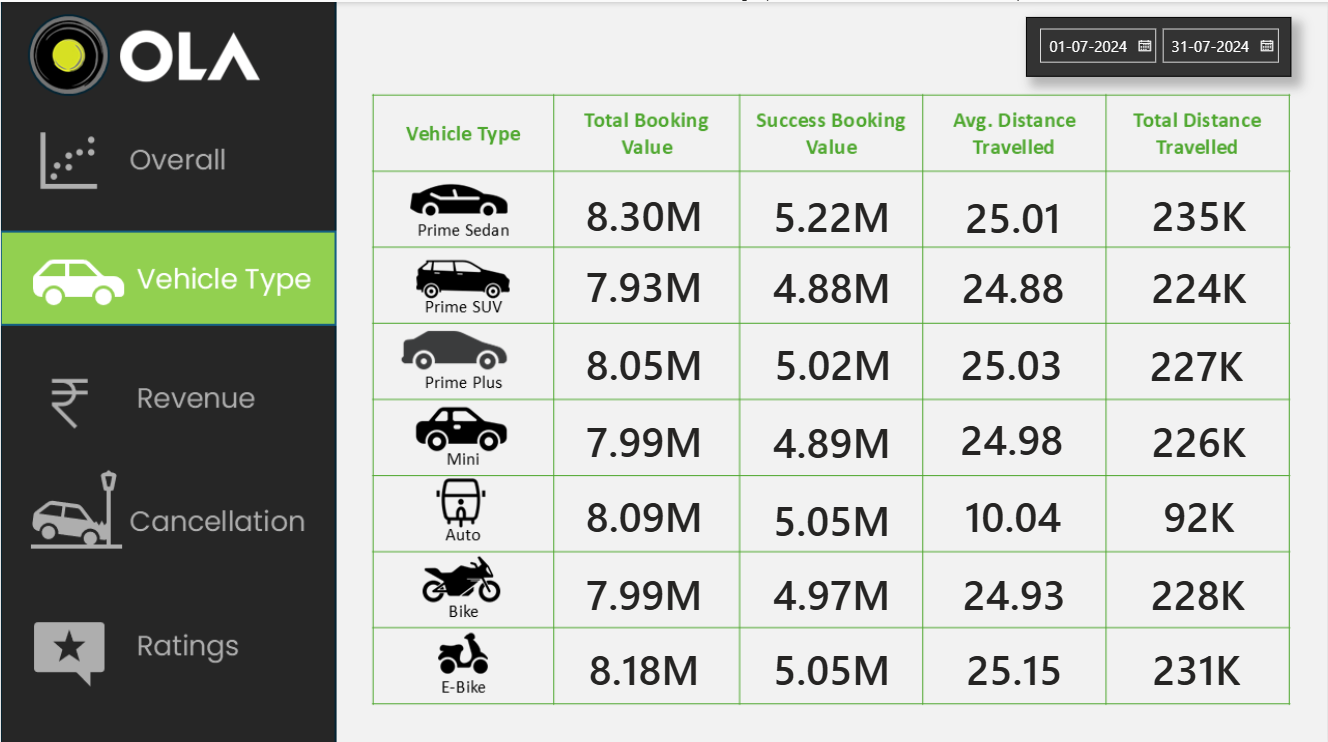

Layout of this report page (visuals, bound fields, positions):
{"tool":"powerbi","page":{"name":"Vehicle Type","canvas":[1280,720],"ordinal":1},"visuals":[{"type":"actionButton","box":[0,340,324.4,92.2],"z":0},{"type":"actionButton","box":[0,107.5,325,92.5],"z":1000},{"type":"actionButton","box":[0,445,325,92.5],"z":2000},{"type":"actionButton","box":[0,580,325,92.5],"z":3000},{"type":"cardVisual","fields":{"Data":["Sum(July.Booking_Value)"]},"box":[535,163.8,173.8,78.8],"z":4000},{"type":"cardVisual","fields":{"Data":["Sum(July.Booking_Value)"]},"box":[535,232.5,173.8,78.8],"z":5000},{"type":"cardVisual","fields":{"Data":["Sum(July.Booking_Value)"]},"box":[535,307.5,173.8,78.8],"z":6000},{"type":"cardVisual","fields":{"Data":["Sum(July.Booking_Value)"]},"box":[535,382.5,173.8,78.8],"z":7000},{"type":"cardVisual","fields":{"Data":["Sum(July.Booking_Value)"]},"box":[535,455,173.8,78.8],"z":8000},{"type":"cardVisual","fields":{"Data":["Sum(July.Booking_Value)"]},"box":[535,530,173.8,78.8],"z":9000},{"type":"cardVisual","fields":{"Data":["Sum(July.Booking_Value)"]},"box":[535,602.5,173.8,78.8],"z":10000},{"type":"cardVisual","fields":{"Data":["Sum(July.Booking_Value)"]},"box":[715,165,173.8,78.8],"z":11000},{"type":"cardVisual","fields":{"Data":["Sum(July.Booking_Value)"]},"box":[715,233.8,173.8,78.8],"z":12000},{"type":"cardVisual","fields":{"Data":["Sum(July.Booking_Value)"]},"box":[716.2,307.5,173.8,78.8],"z":13000},{"type":"cardVisual","fields":{"Data":["Sum(July.Booking_Value)"]},"box":[715,383.8,173.8,78.8],"z":14000},{"type":"cardVisual","fields":{"Data":["Sum(July.Booking_Value)"]},"box":[715,458.8,173.8,78.8],"z":15000},{"type":"cardVisual","fields":{"Data":["Sum(July.Booking_Value)"]},"box":[715,530,173.8,78.8],"z":16000},{"type":"cardVisual","fields":{"Data":["Sum(July.Booking_Value)"]},"box":[715,602.5,173.8,78.8],"z":17000},{"type":"cardVisual","fields":{"Data":["Avg(July.Ride_Distance)"]},"box":[890,166.2,173.8,78.8],"z":18000},{"type":"cardVisual","fields":{"Data":["Avg(July.Ride_Distance)"]},"box":[890,233.8,173.8,78.8],"z":19000},{"type":"cardVisual","fields":{"Data":["Avg(July.Ride_Distance)"]},"box":[888.8,307.5,173.8,78.8],"z":20000},{"type":"cardVisual","fields":{"Data":["Avg(July.Ride_Distance)"]},"box":[888.8,380,173.8,78.8],"z":21000},{"type":"cardVisual","fields":{"Data":["Avg(July.Ride_Distance)"]},"box":[890,455,173.8,78.8],"z":22000},{"type":"cardVisual","fields":{"Data":["Avg(July.Ride_Distance)"]},"box":[891.2,530,173.8,78.8],"z":23000},{"type":"cardVisual","fields":{"Data":["Avg(July.Ride_Distance)"]},"box":[891.2,602.5,173.8,78.8],"z":24000},{"type":"cardVisual","fields":{"Data":["Sum(July.Ride_Distance)"]},"box":[1065,163.8,182.5,78.8],"z":25000},{"type":"cardVisual","fields":{"Data":["Sum(July.Ride_Distance)"]},"box":[1065,233.8,182.5,78.8],"z":26000},{"type":"cardVisual","fields":{"Data":["Sum(July.Ride_Distance)"]},"box":[1065,308.8,177.5,78.8],"z":27000},{"type":"cardVisual","fields":{"Data":["Sum(July.Ride_Distance)"]},"box":[1067.5,382.5,177.5,78.8],"z":28000},{"type":"cardVisual","fields":{"Data":["Sum(July.Ride_Distance)"]},"box":[1067.5,455,177.5,78.8],"z":29000},{"type":"cardVisual","fields":{"Data":["Sum(July.Ride_Distance)"]},"box":[1065,530,180,78.8],"z":30000},{"type":"cardVisual","fields":{"Data":["Sum(July.Ride_Distance)"]},"box":[1065,602.5,177.5,78.8],"z":31000},{"type":"slicer","title":"Date","fields":{"Values":["July.Date"]},"box":[988.8,15,256.2,57.5],"z":32000}]}

Visuals, with their boxes on the page's 1280x720 design canvas (x1, y1, x2, y2). These are canvas units, not pixel positions in the 1328x742 screenshot, which may show the page scaled, cropped or inside an application window:
actionButton: [0,340,324,432]
actionButton: [0,108,325,200]
actionButton: [0,445,325,538]
actionButton: [0,580,325,672]
cardVisual - Sum(July.Booking_Value): [535,164,709,243]
cardVisual - Sum(July.Booking_Value): [535,232,709,311]
cardVisual - Sum(July.Booking_Value): [535,308,709,386]
cardVisual - Sum(July.Booking_Value): [535,382,709,461]
cardVisual - Sum(July.Booking_Value): [535,455,709,534]
cardVisual - Sum(July.Booking_Value): [535,530,709,609]
cardVisual - Sum(July.Booking_Value): [535,602,709,681]
cardVisual - Sum(July.Booking_Value): [715,165,889,244]
cardVisual - Sum(July.Booking_Value): [715,234,889,313]
cardVisual - Sum(July.Booking_Value): [716,308,890,386]
cardVisual - Sum(July.Booking_Value): [715,384,889,463]
cardVisual - Sum(July.Booking_Value): [715,459,889,538]
cardVisual - Sum(July.Booking_Value): [715,530,889,609]
cardVisual - Sum(July.Booking_Value): [715,602,889,681]
cardVisual - Avg(July.Ride_Distance): [890,166,1064,245]
cardVisual - Avg(July.Ride_Distance): [890,234,1064,313]
cardVisual - Avg(July.Ride_Distance): [889,308,1063,386]
cardVisual - Avg(July.Ride_Distance): [889,380,1063,459]
cardVisual - Avg(July.Ride_Distance): [890,455,1064,534]
cardVisual - Avg(July.Ride_Distance): [891,530,1065,609]
cardVisual - Avg(July.Ride_Distance): [891,602,1065,681]
cardVisual - Sum(July.Ride_Distance): [1065,164,1248,243]
cardVisual - Sum(July.Ride_Distance): [1065,234,1248,313]
cardVisual - Sum(July.Ride_Distance): [1065,309,1242,388]
cardVisual - Sum(July.Ride_Distance): [1068,382,1245,461]
cardVisual - Sum(July.Ride_Distance): [1068,455,1245,534]
cardVisual - Sum(July.Ride_Distance): [1065,530,1245,609]
cardVisual - Sum(July.Ride_Distance): [1065,602,1242,681]
"Date" slicer: [989,15,1245,72]
